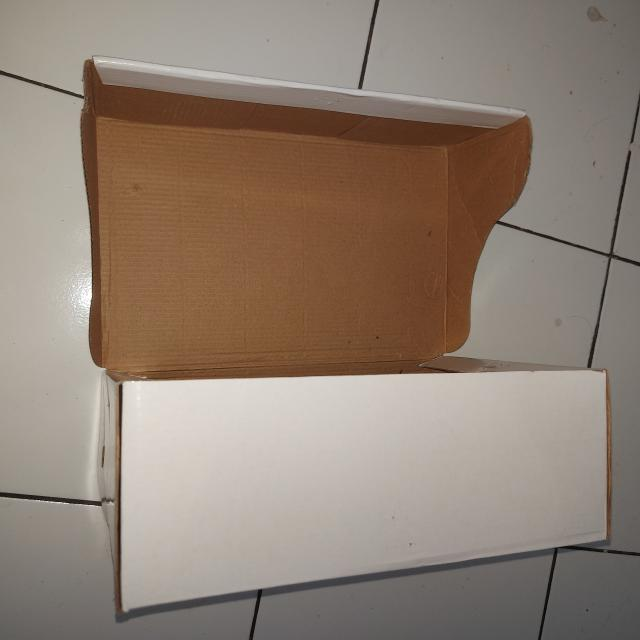Organik: (78, 57, 615, 612)
